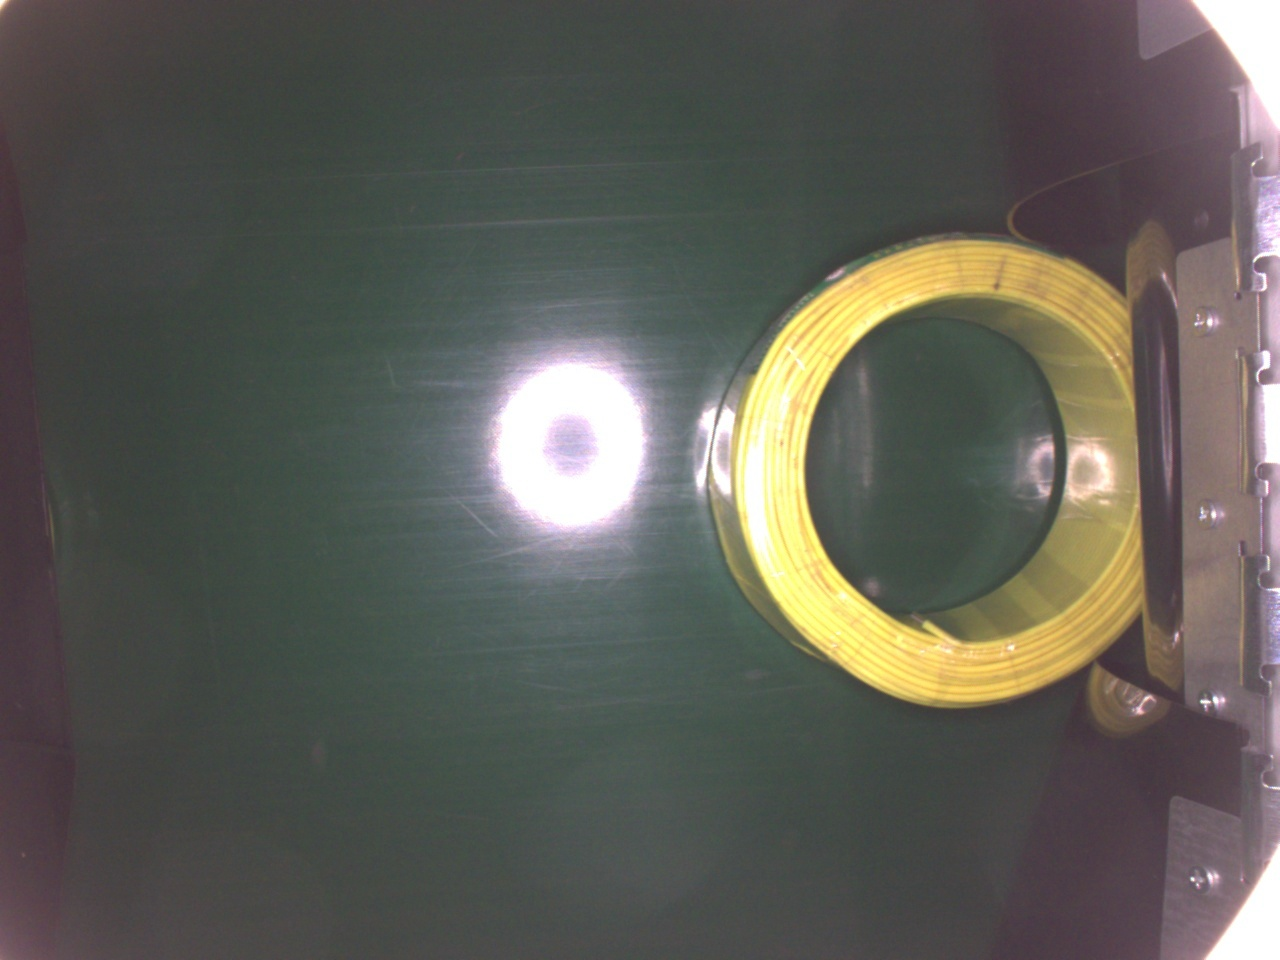yellow: (708, 233, 1142, 710)
